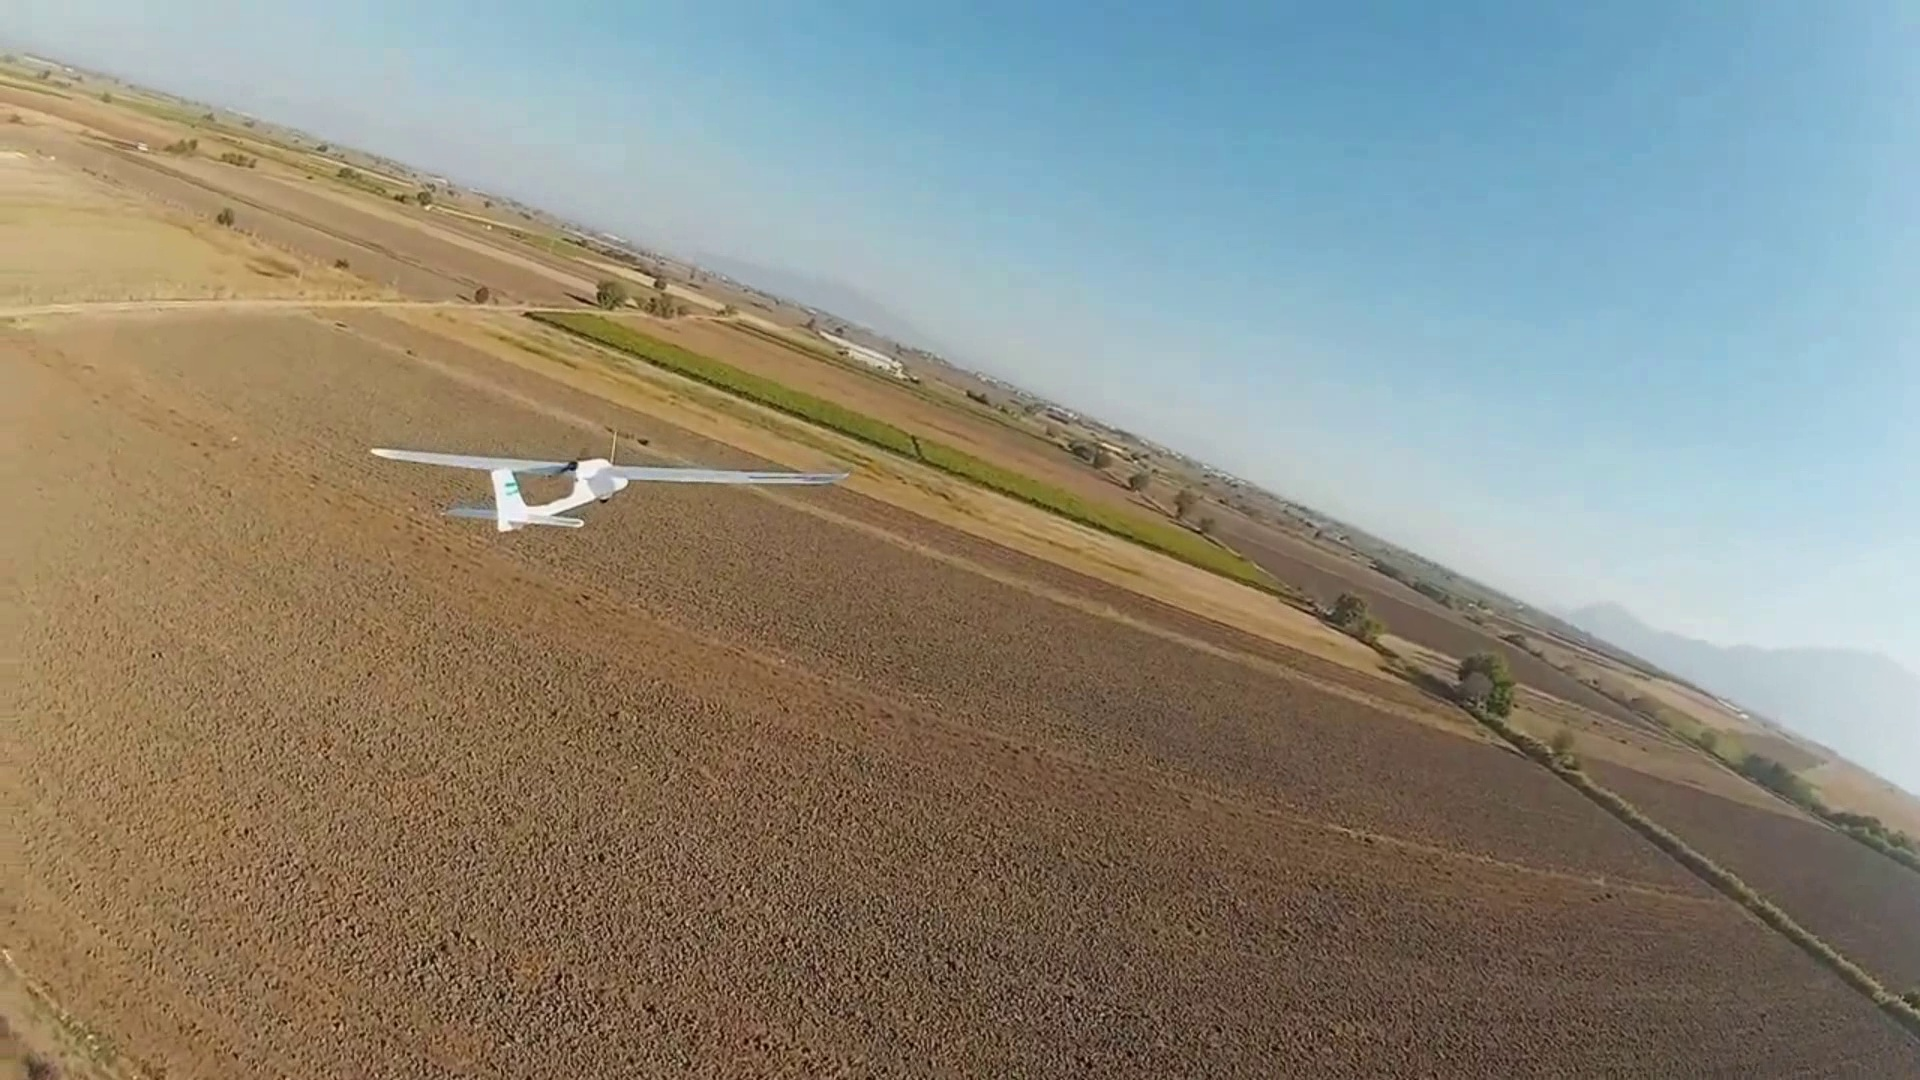airplane: (371, 443, 846, 535), (370, 445, 630, 535)
